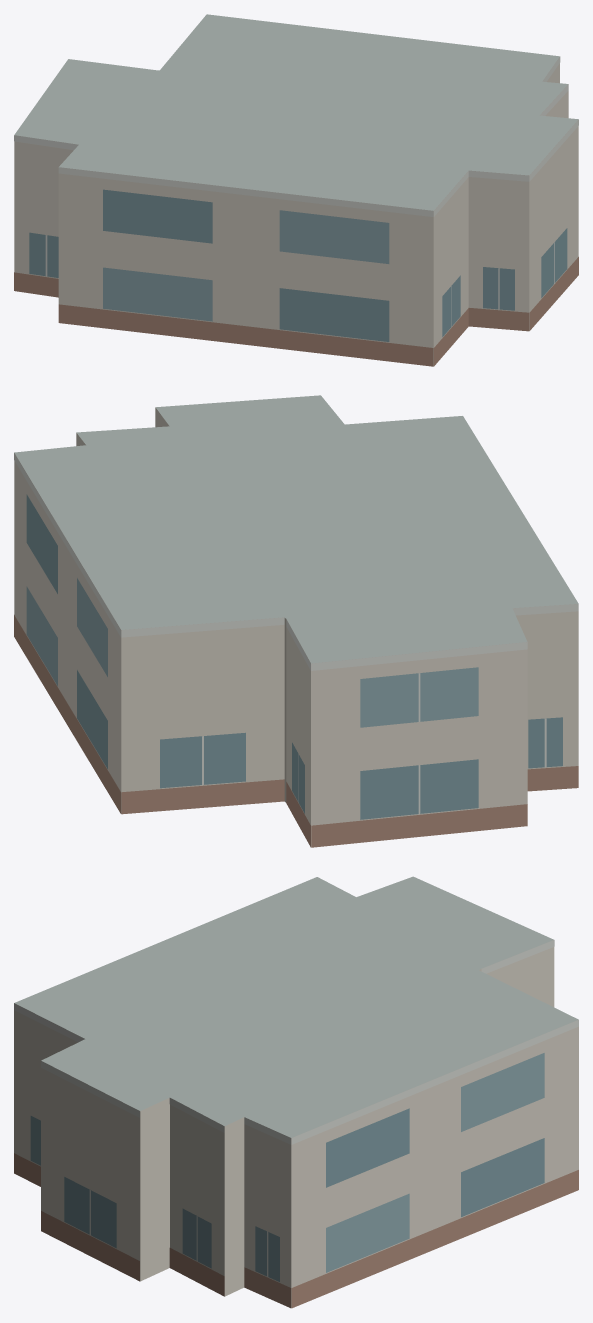
The model's file is survey-upis-32494699.glb.
3 views of the same model, one above another, from view 1: azimuth 30°, elevation 25°; view 2: azimuth 150°, elevation 25°; view 3: azimuth 270°, elevation 25° (orthographic). The views are drawn at different scales.
Visible parts, largest first — view 1: survey-upis-32494699.tmp; view 2: survey-upis-32494699.tmp; view 3: survey-upis-32494699.tmp.
Boxes of the visible parts, x1=… form: survey-upis-32494699.tmp: x1=14, y1=14, x2=578, y2=366; survey-upis-32494699.tmp: x1=14, y1=395, x2=578, y2=847; survey-upis-32494699.tmp: x1=14, y1=876, x2=578, y2=1308.
Bounding box in the file's own units: 17.79 × 5.4 × 16.23.
